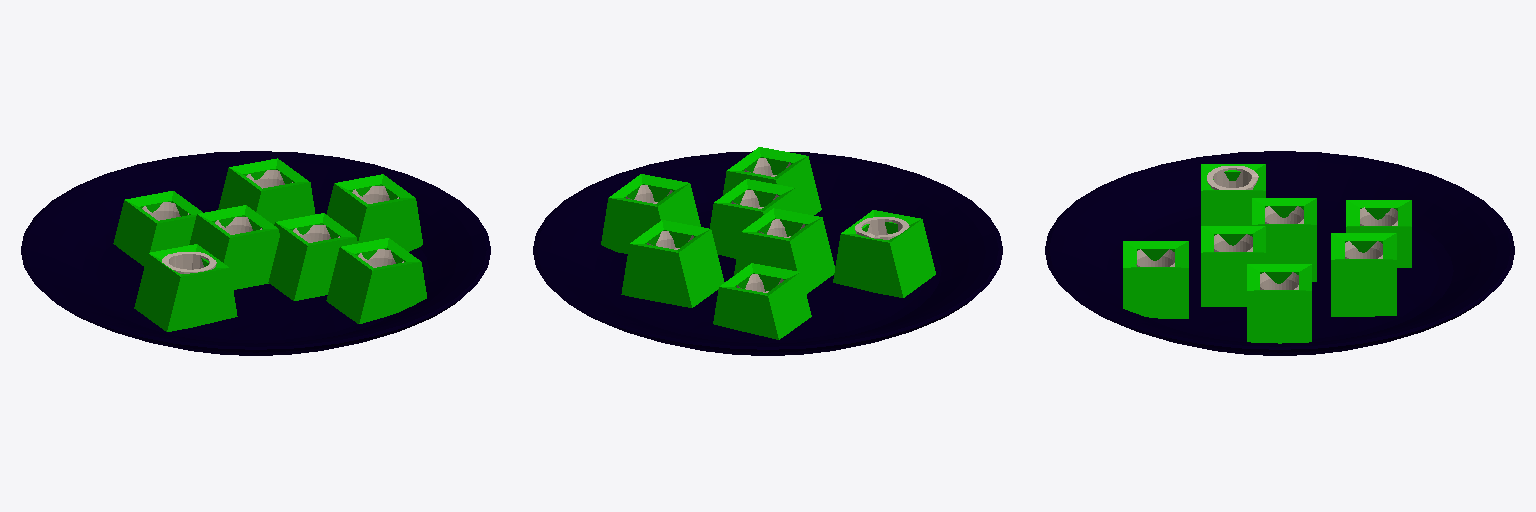
Rendered from APEM.obj.
The picture shows the model from 3 angles: view 1: azimuth 30°, elevation 25°; view 2: azimuth 150°, elevation 25°; view 3: azimuth 270°, elevation 25°; orthographic projection.
Visible parts, largest first — view 1: Cylinder, Cube.006_Cube.007, Cube.003, Cube.004, Cube, Cube.002, Cube.001, Cube.005, Cylinder.004_Cylinder.005; view 2: Cylinder, Cube.001, Cube.003, Cube.005, Cube.002, Cube, Cube.004, Cube.006_Cube.007, Cylinder.004_Cylinder.005; view 3: Cylinder, Cube.001, Cube, Cube.006_Cube.007, Cube.004, Cube.002, Cube.003, Cube.005, Cylinder.004_Cylinder.005.
Boxes of the visible parts, <box> form: Cylinder: <box>21,151,490,355</box>; Cube.006_Cube.007: <box>326,238,426,323</box>; Cube.003: <box>134,244,237,331</box>; Cube.004: <box>268,213,357,300</box>; Cube: <box>326,174,422,251</box>; Cube.002: <box>189,205,279,289</box>; Cube.001: <box>218,158,314,224</box>; Cube.005: <box>113,191,202,266</box>; Cylinder.004_Cylinder.005: <box>162,252,216,273</box>; Cylinder: <box>533,151,1002,355</box>; Cube.001: <box>621,220,724,307</box>; Cube.003: <box>833,210,935,297</box>; Cube.005: <box>713,263,811,339</box>; Cube.002: <box>734,208,834,294</box>; Cube: <box>601,174,700,253</box>; Cube.004: <box>710,179,801,258</box>; Cube.006_Cube.007: <box>723,147,821,215</box>; Cylinder.004_Cylinder.005: <box>855,217,909,239</box>; Cylinder: <box>1045,151,1514,355</box>; Cube.001: <box>1331,233,1396,316</box>; Cube: <box>1247,264,1311,343</box>; Cube.006_Cube.007: <box>1123,241,1188,318</box>; Cube.004: <box>1201,226,1265,306</box>; Cube.002: <box>1252,198,1316,281</box>; Cube.003: <box>1201,164,1265,225</box>; Cube.005: <box>1346,200,1411,267</box>; Cylinder.004_Cylinder.005: <box>1207,166,1258,189</box>.
Bounding box in the file's own units: 2.31 × 0.4137 × 2.31.